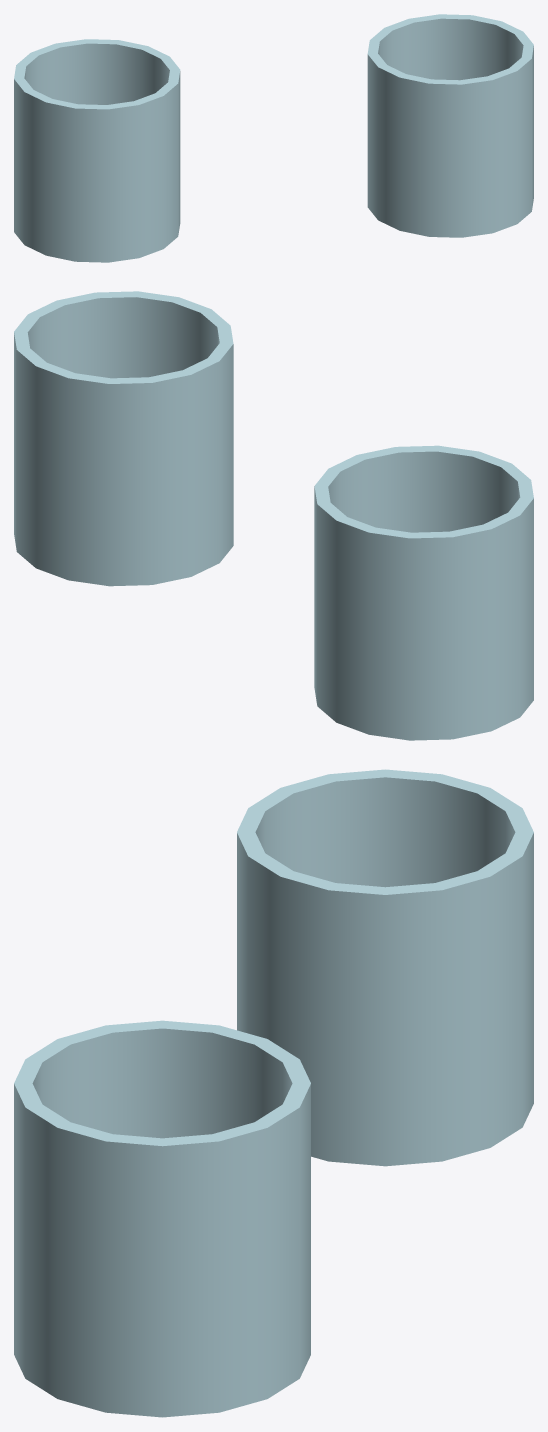
File: glasses.dae
3 views of the same model, one above another, from view 1: azimuth 30°, elevation 25°; view 2: azimuth 150°, elevation 25°; view 3: azimuth 270°, elevation 25° (orthographic). The views are drawn at different scales.
Visible parts, largest first — view 1: GlassCylinder2, GlassCylinder1, GlassBottom2, GlassBottom; view 2: GlassCylinder2, GlassCylinder1, GlassBottom, GlassBottom2; view 3: GlassCylinder1, GlassCylinder2, GlassBottom2, GlassBottom.
Part boxes in pixels (box(x1,y1,x2,y2)): GlassCylinder2: box(14, 39, 180, 261); GlassCylinder1: box(367, 14, 533, 236); GlassBottom2: box(14, 213, 180, 262); GlassBottom: box(367, 184, 533, 237); GlassCylinder2: box(314, 445, 533, 738); GlassCylinder1: box(14, 291, 233, 584); GlassBottom: box(14, 514, 233, 586); GlassBottom2: box(314, 666, 533, 740); GlassCylinder1: box(14, 1020, 310, 1415); GlassCylinder2: box(237, 769, 533, 1164); GlassBottom2: box(311, 1073, 533, 1166); GlassBottom: box(14, 1327, 310, 1417).
Size of the model in its own units: 24 by 8.06 by 14.
